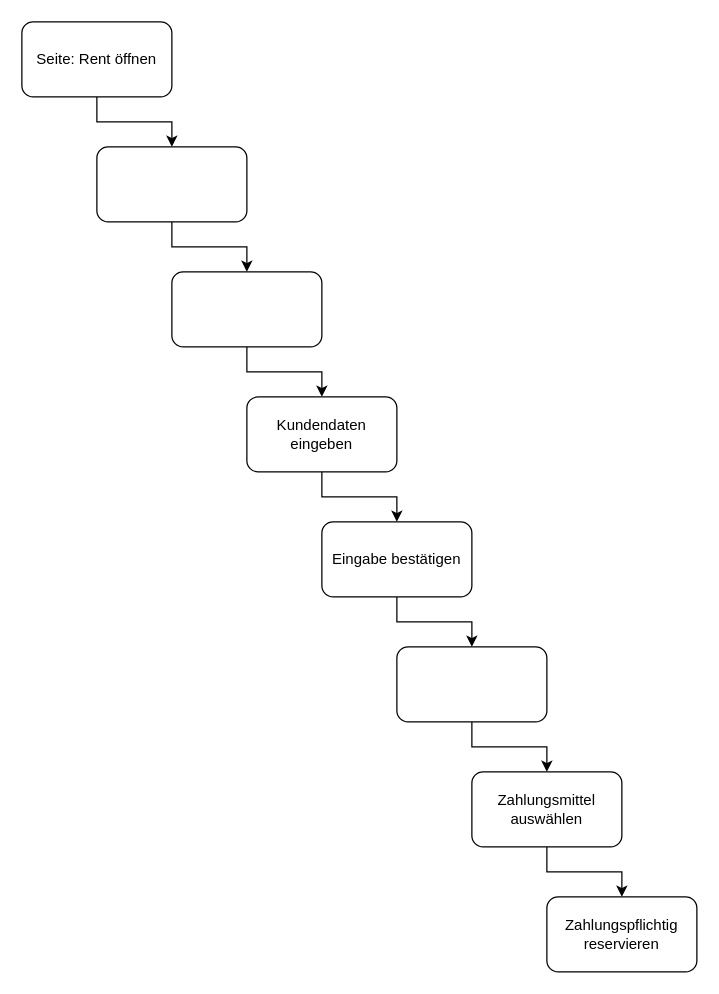
The diagram is 719 pixels wide and 994 high, and some of its shapes have lost their labels. The shapes that lost their labels are listed below. From the top down, each one's box as (x1, y1, x2, y2) in pixels, then its label:
(96, 146, 247, 222): Roller auswählen
(171, 271, 322, 347): Zeitraum auswählen
(396, 646, 547, 722): Eingabe überprüfen
